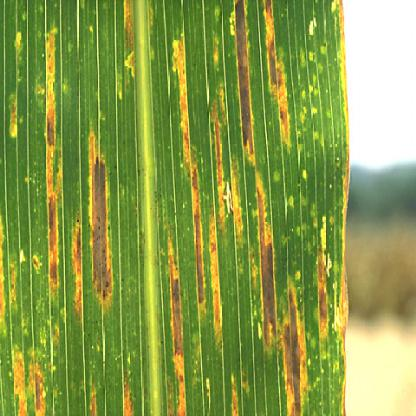corn gray leaf spot: (3, 4, 361, 415)
